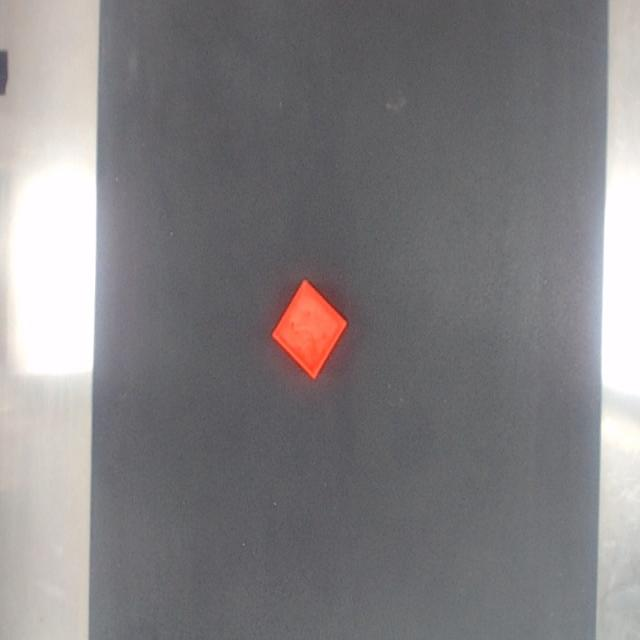Rojo: (271, 279, 347, 380)
